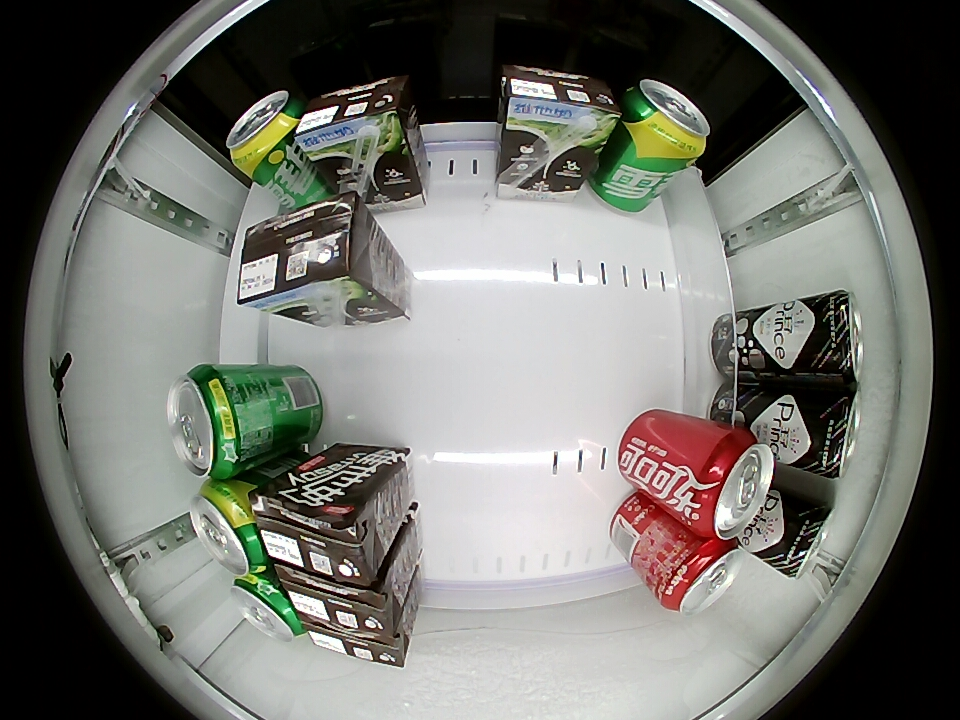kele: (689, 430, 775, 538), (658, 537, 741, 615)
qingdaowangzi-1: (806, 290, 864, 385), (801, 388, 862, 478), (773, 500, 834, 578)
weitanai2: (234, 190, 368, 315), (253, 476, 382, 585), (296, 77, 411, 158), (497, 66, 621, 141), (277, 568, 396, 636), (304, 623, 411, 667)
xuebi2: (168, 364, 253, 478), (189, 479, 269, 577), (621, 78, 711, 162), (226, 90, 304, 170), (230, 572, 305, 642)
